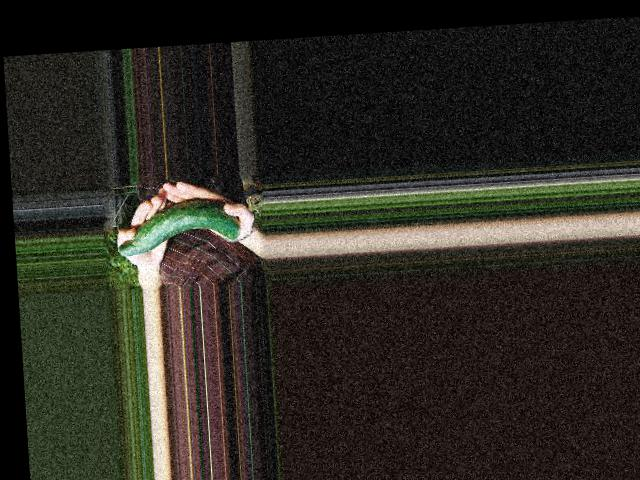cucumber: (116, 197, 242, 256)
